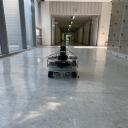cart: (47, 55, 79, 78)
